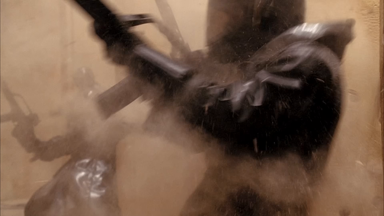firearm: (68, 1, 161, 121), (0, 75, 35, 126)
